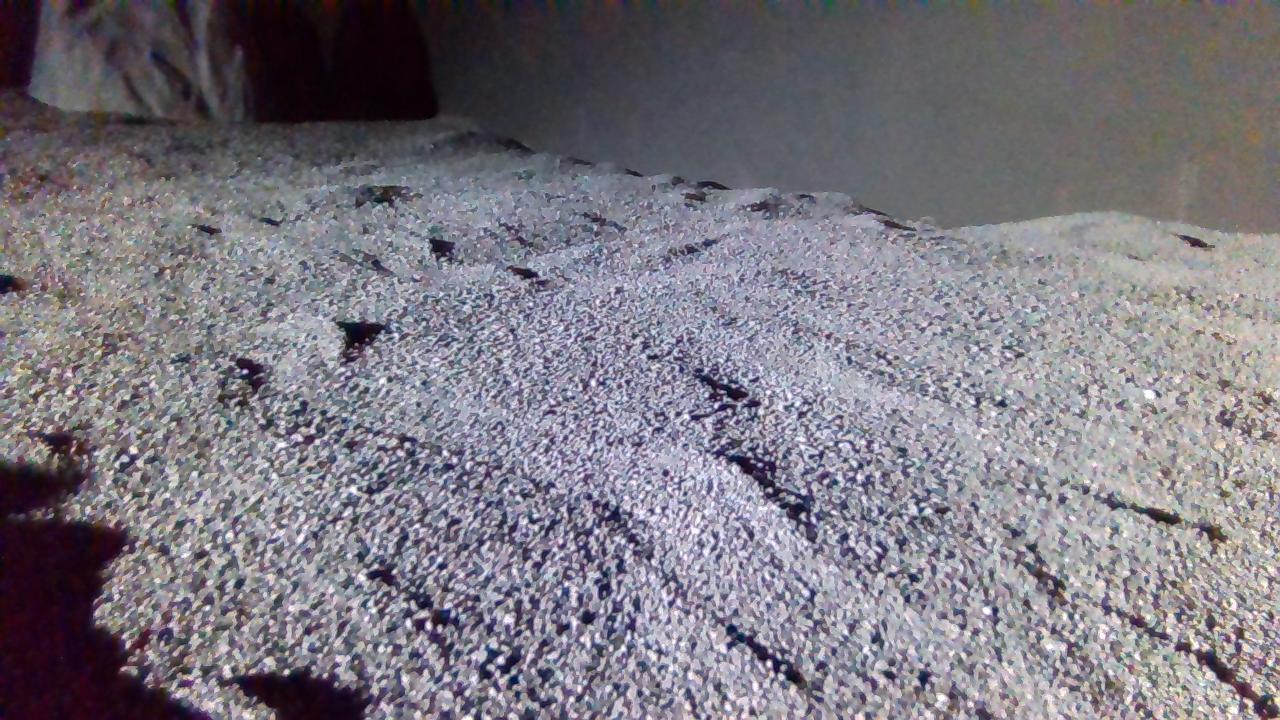rock: (30, 0, 261, 120)
